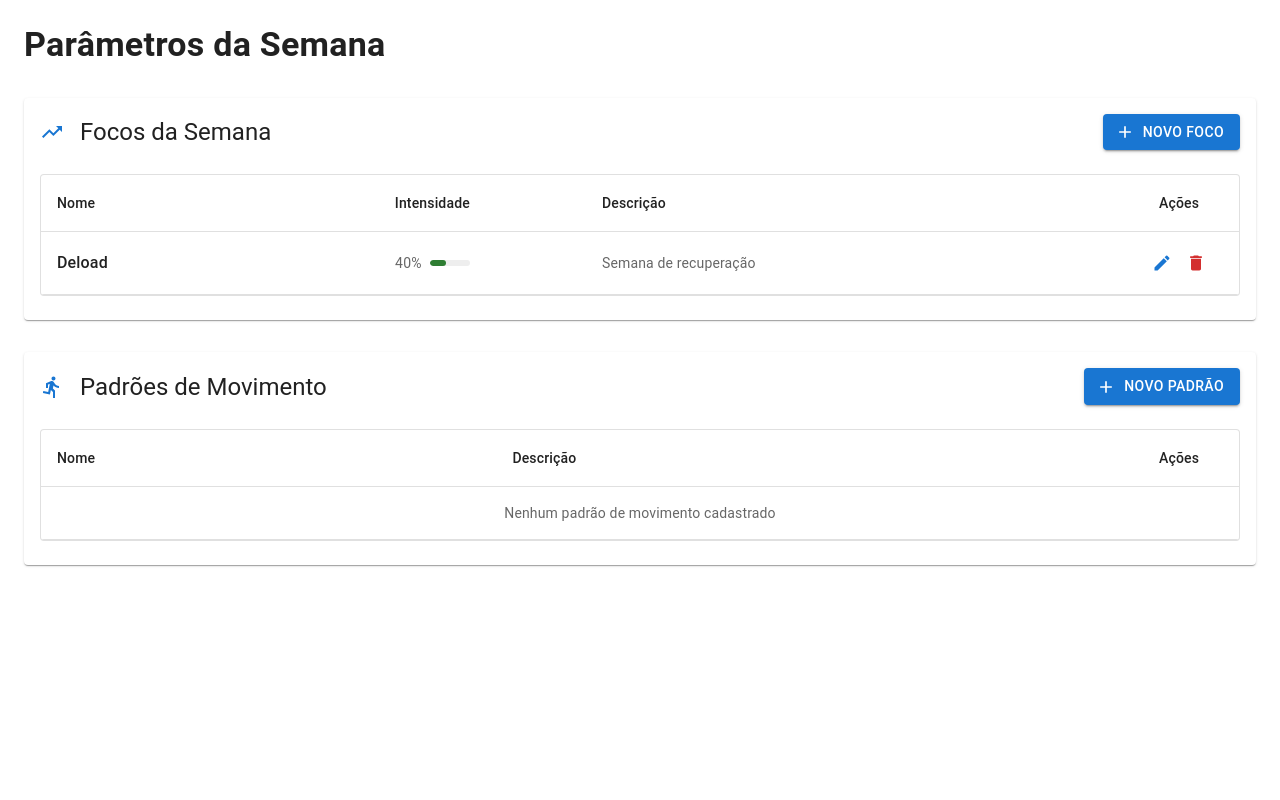
Parametros › exclui um foco da semana
Expected: the text "Deload" is shown, [57, 254, 108, 272]
Click the button named "Excluir foco".
click(1196, 264)  # box [1181, 248, 1211, 278]
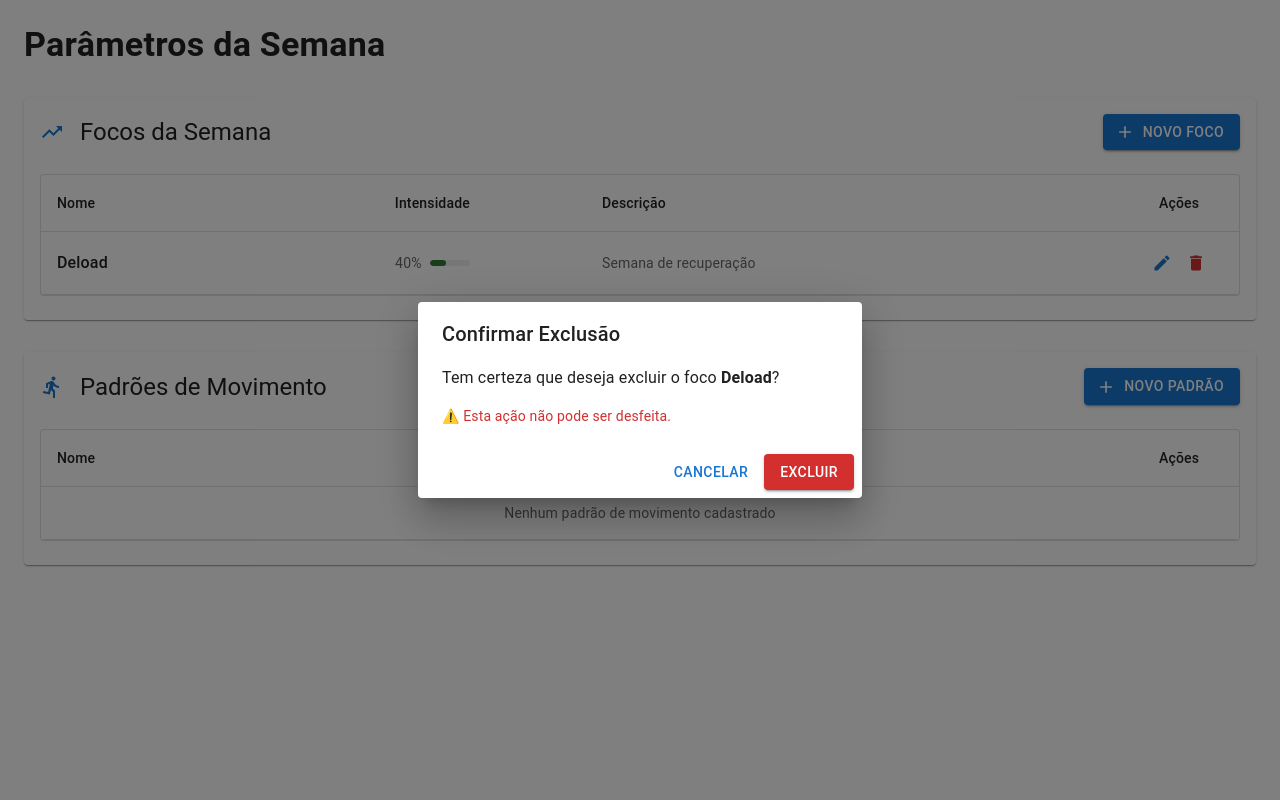
Click the button "Excluir".
click(809, 472)  # box [764, 454, 854, 490]
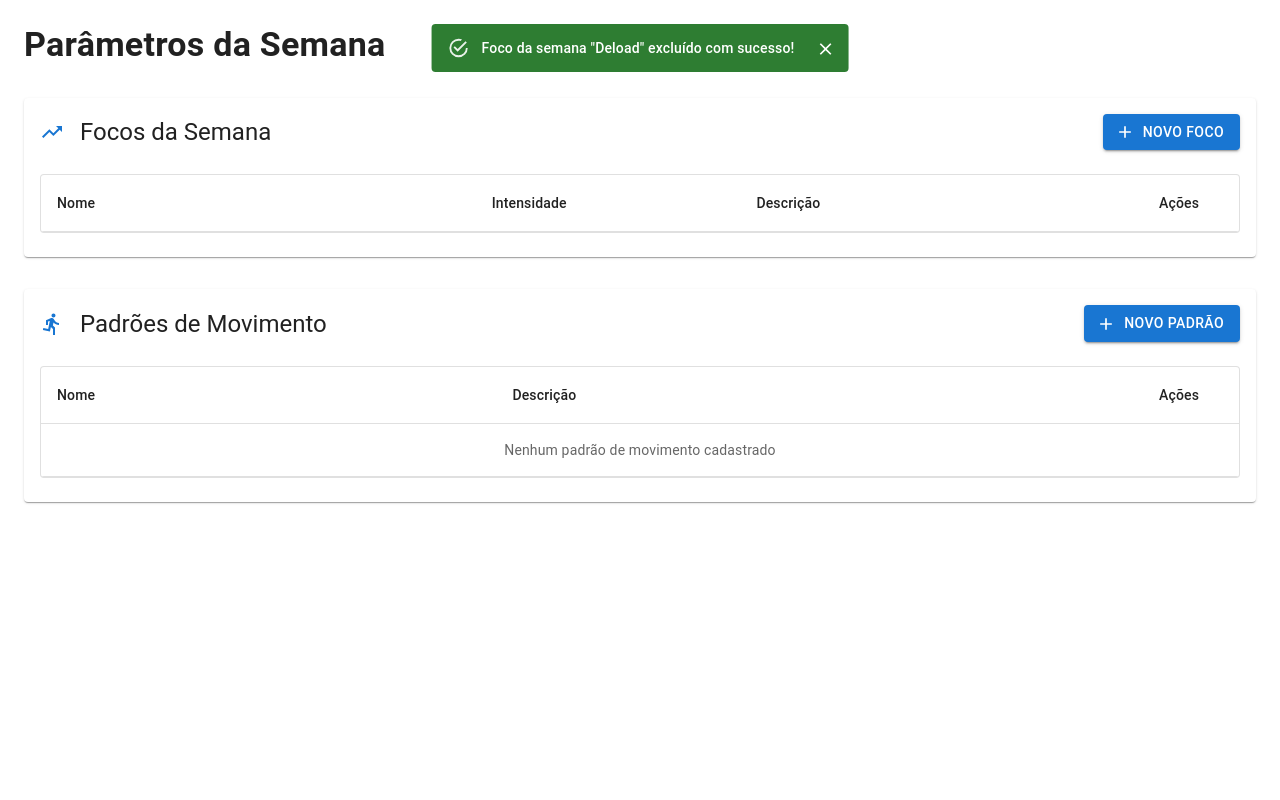
Result: the text "Foco da semana \"Deload\" excluído com sucesso!" is shown at [482, 40, 794, 56]
